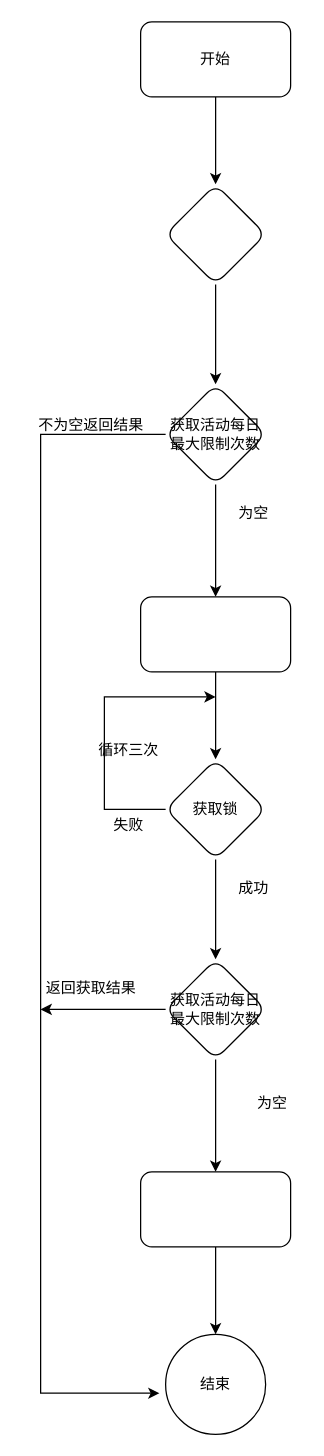
The diagram is 324 pixels wide and 1456 high, and some of its shapes have lost their labels. The shapes that lost their labels are listed below. From the top down, each one's centre as x and y in pixels, then its label:
At point 215,233: "库存限制与否".
At point 215,634: "计算总奖品剩余库存".
At point 215,1209: "设置分区库存".
